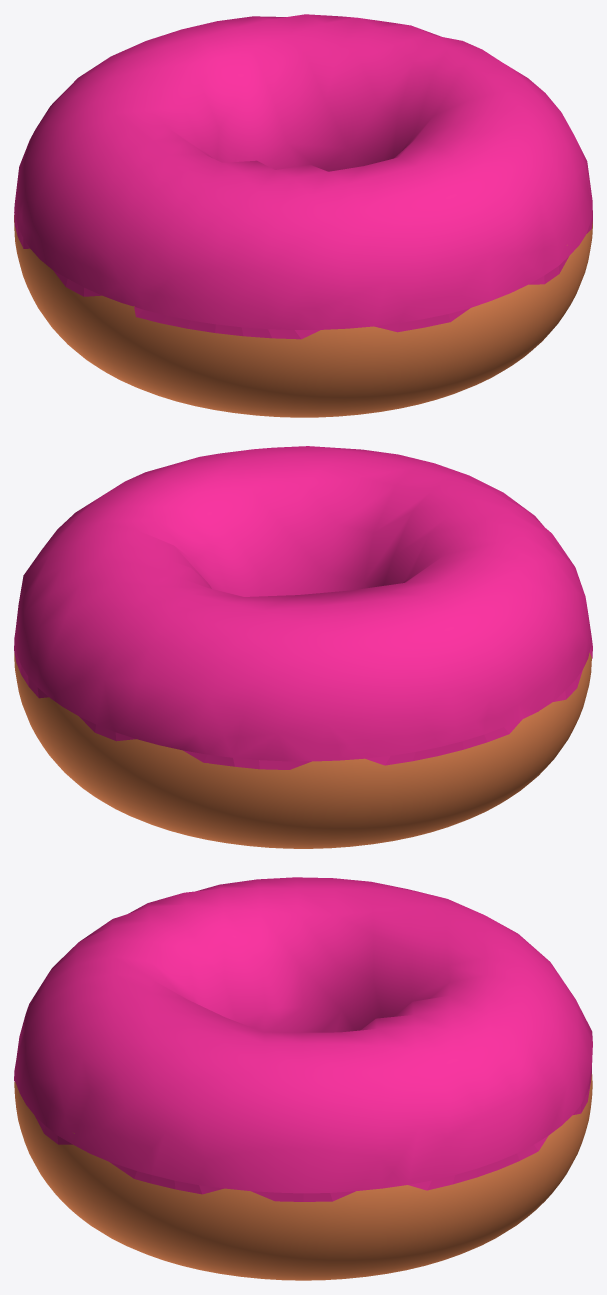
File: Donut.fbx
3 views of the same model, one above another, from view 1: azimuth 30°, elevation 25°; view 2: azimuth 150°, elevation 25°; view 3: azimuth 270°, elevation 25° (orthographic).
Visible parts, largest first — view 1: Donut Glasur, Donut; view 2: Donut Glasur, Donut; view 3: Donut Glasur, Donut.
Boxes of the visible parts, x1,y1,x2,y2 form: Donut Glasur: (14, 14, 592, 339); Donut: (14, 215, 592, 417); Donut Glasur: (14, 446, 592, 769); Donut: (14, 653, 591, 848); Donut Glasur: (14, 877, 592, 1201); Donut: (14, 1074, 592, 1280).
Size of the model in its own units: 454 by 199 by 455.
